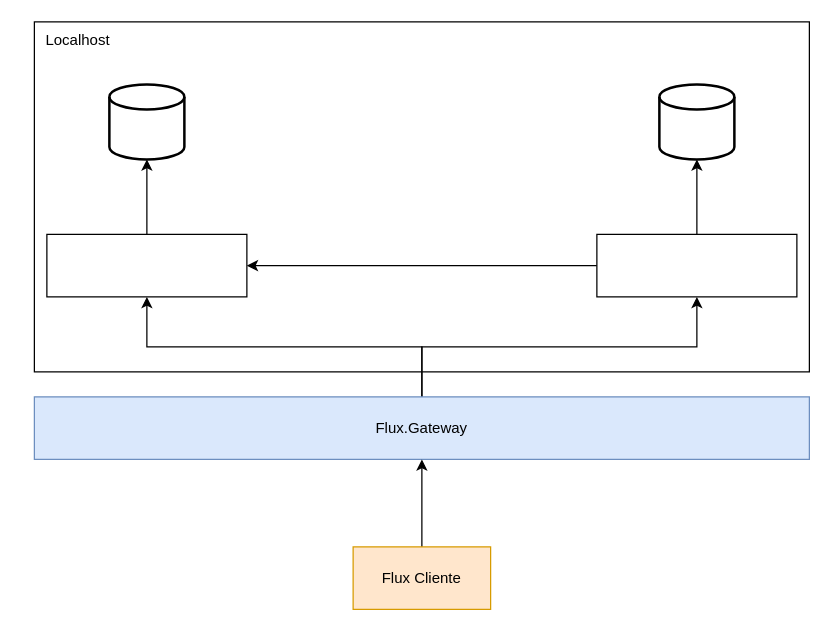
Some shapes in this 831 by 631 pixel diagram are drawn without their labels. The centre of each missing label's shape, as x and y in pixels:
Flux.Consolidado: point (146, 265)
Flux.Movimentacao: point (696, 265)
